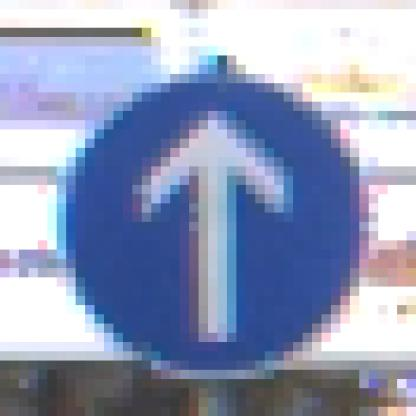AheadOnly: (49, 56, 361, 371)
